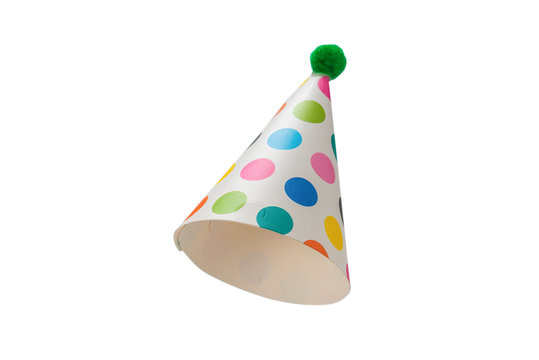cone: (173, 73, 352, 306)
